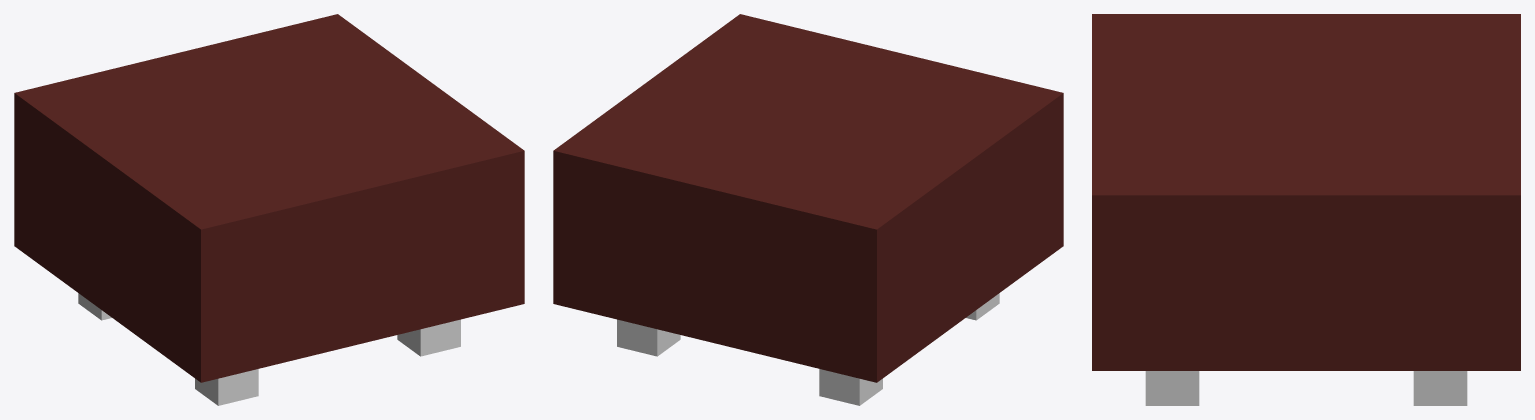
The model's file is footstool.fbx.
The picture shows the model from 3 angles, left to right: view 1: azimuth 30°, elevation 25°; view 2: azimuth 150°, elevation 25°; view 3: azimuth 270°, elevation 25°; orthographic projection. The views are drawn at different scales.
Parts seen in each view (by area): view 1: Cube; view 2: Cube; view 3: Cube.
Boxes of the visible parts, left/top/right/bottom form: Cube: left=14, top=14, right=524, bottom=405; Cube: left=553, top=14, right=1063, bottom=405; Cube: left=1092, top=14, right=1520, bottom=405.
Bounding box in the file's own units: 200 × 120 × 200.
